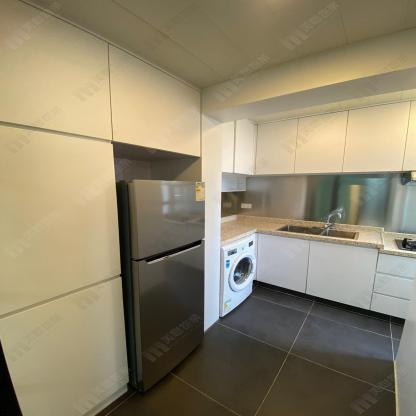Cupboard: (2, 1, 203, 415), (257, 235, 414, 324), (250, 100, 416, 175)
Faucet: (322, 207, 343, 228)
Fridge: (116, 179, 205, 394), (123, 179, 208, 392)
Sink: (269, 224, 360, 241), (276, 225, 357, 239)
Washing Machine: (219, 235, 254, 317)
